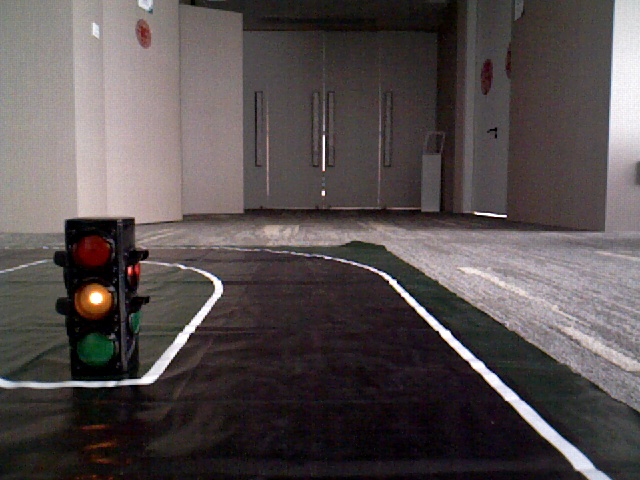yellow: (68, 218, 122, 368)
